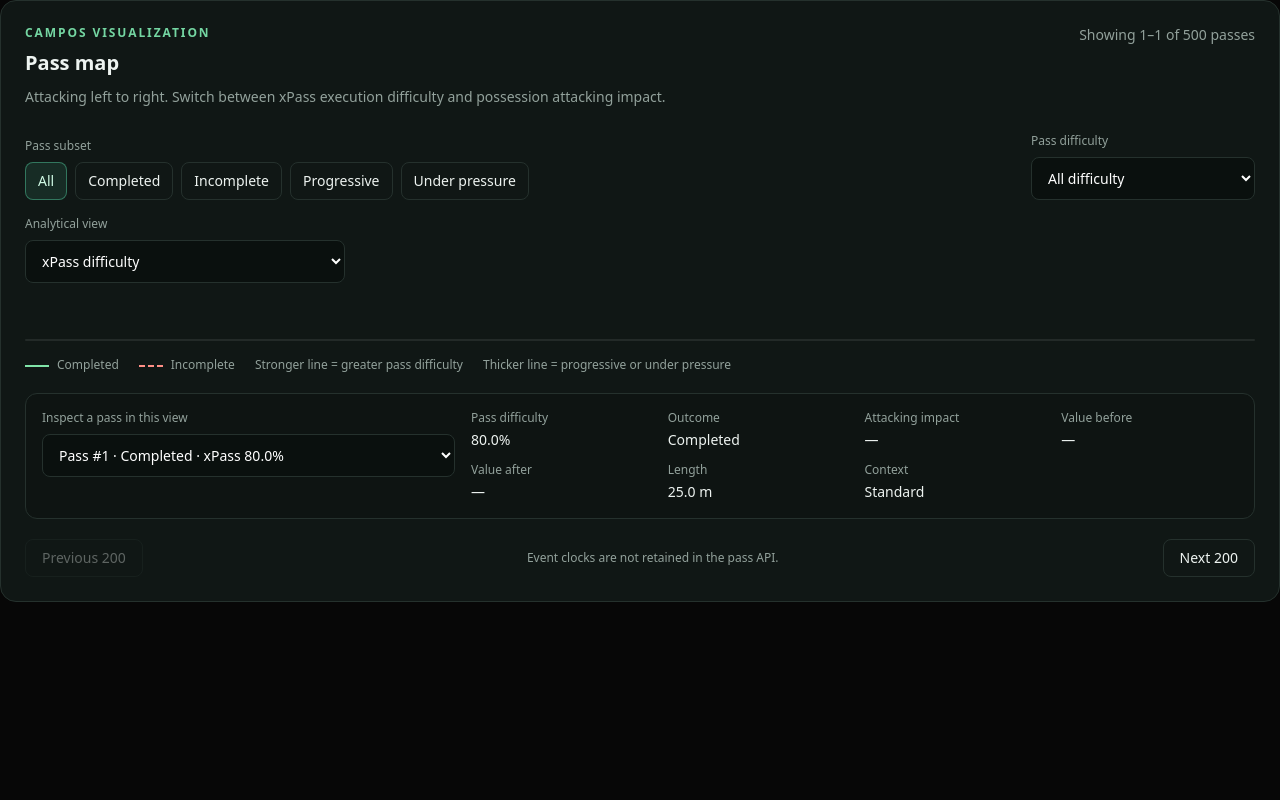
FootyScoutPassMap interactions › clears the inspector and shows an empty state for an empty filtered response
Click the button "Incomplete" at {"x": 232, "y": 181}, box [181,162,282,200]
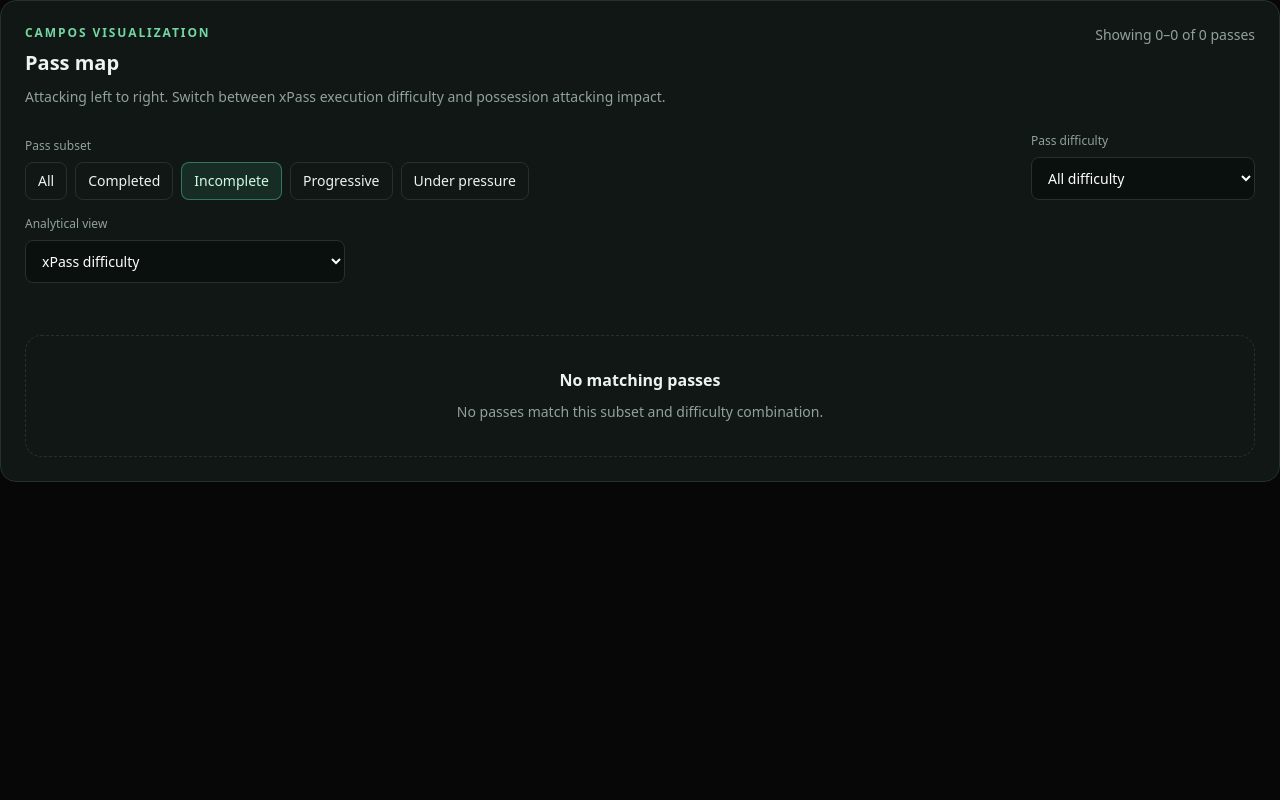
Result: the heading "No matching passes" is shown at [560,369,720,391]
Result: the label labelled "Inspect a pass" is gone
Result: the text "Showing 0–0 of 0 passes" is shown at [1095,25,1255,45]
